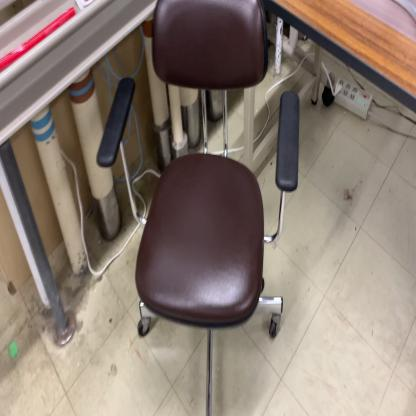chair: (94, 1, 302, 415)
